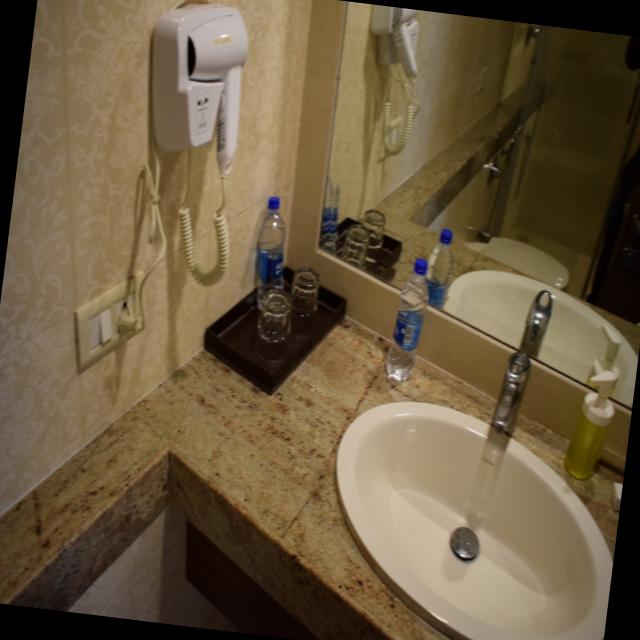mess: (214, 183, 640, 640)
